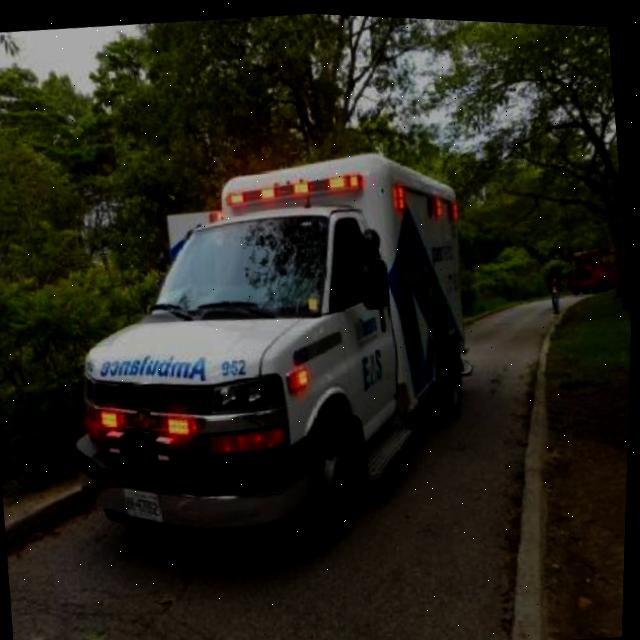emergency: (43, 126, 496, 570)
